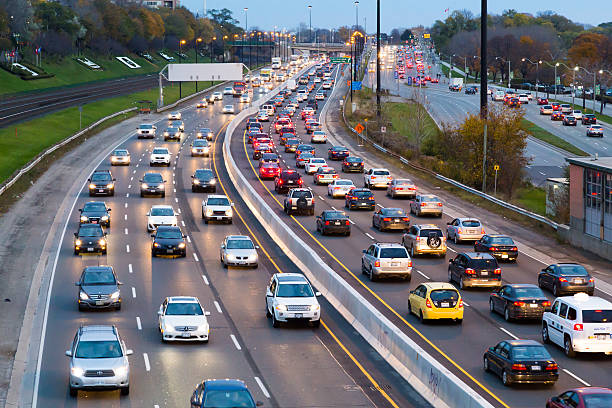car: (546, 294, 612, 359), (69, 326, 130, 396), (485, 338, 558, 390), (267, 272, 318, 327), (161, 296, 211, 347), (489, 282, 549, 323), (407, 283, 464, 324), (361, 242, 411, 282), (538, 261, 595, 296), (449, 252, 499, 290), (77, 266, 120, 310), (192, 379, 254, 408), (546, 383, 612, 408), (220, 236, 258, 271), (405, 224, 446, 256), (474, 231, 516, 261), (150, 226, 189, 258), (75, 224, 108, 257), (202, 194, 234, 226), (316, 209, 350, 238), (370, 207, 409, 231), (146, 204, 177, 232), (344, 186, 375, 212), (411, 193, 443, 218), (448, 217, 481, 241), (80, 202, 111, 227), (274, 170, 303, 193), (284, 190, 314, 212), (141, 173, 166, 199), (190, 168, 215, 192), (90, 171, 114, 195), (364, 166, 390, 187), (391, 178, 417, 197), (328, 179, 353, 198), (110, 148, 132, 168), (189, 138, 210, 158), (149, 148, 171, 167), (259, 161, 280, 180), (316, 167, 338, 184), (342, 155, 364, 172), (327, 144, 348, 161), (307, 156, 327, 173), (586, 124, 606, 140), (137, 123, 155, 140), (163, 127, 182, 141), (283, 137, 297, 155), (255, 148, 269, 163), (299, 143, 314, 157), (198, 127, 213, 140), (561, 114, 577, 126), (313, 129, 326, 142), (248, 121, 262, 133), (283, 126, 297, 138), (166, 110, 181, 121), (307, 123, 321, 134), (583, 115, 597, 125), (263, 104, 274, 116), (542, 106, 553, 118), (195, 98, 205, 108), (223, 104, 233, 114), (493, 90, 503, 100), (465, 85, 476, 94), (296, 91, 307, 100), (314, 93, 324, 99)
